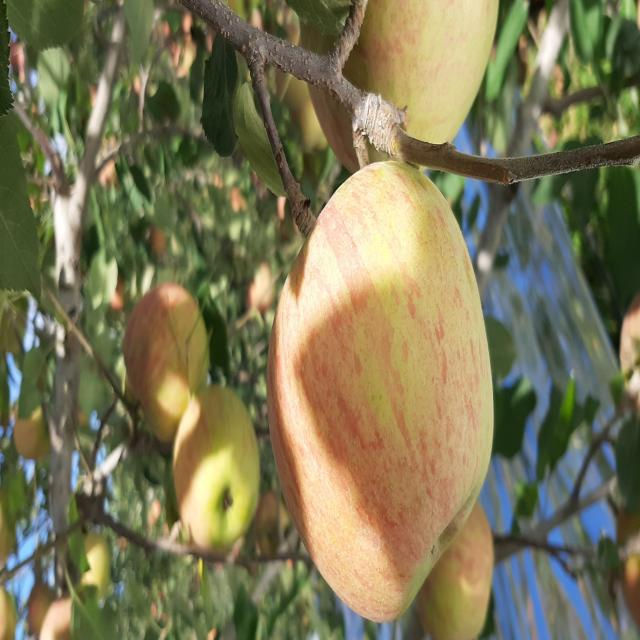fresh: (263, 151, 501, 636)
